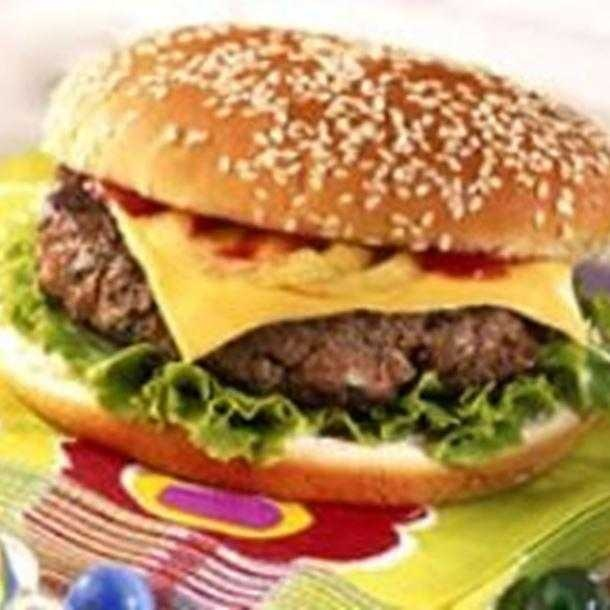hamburger: (2, 34, 610, 500)
